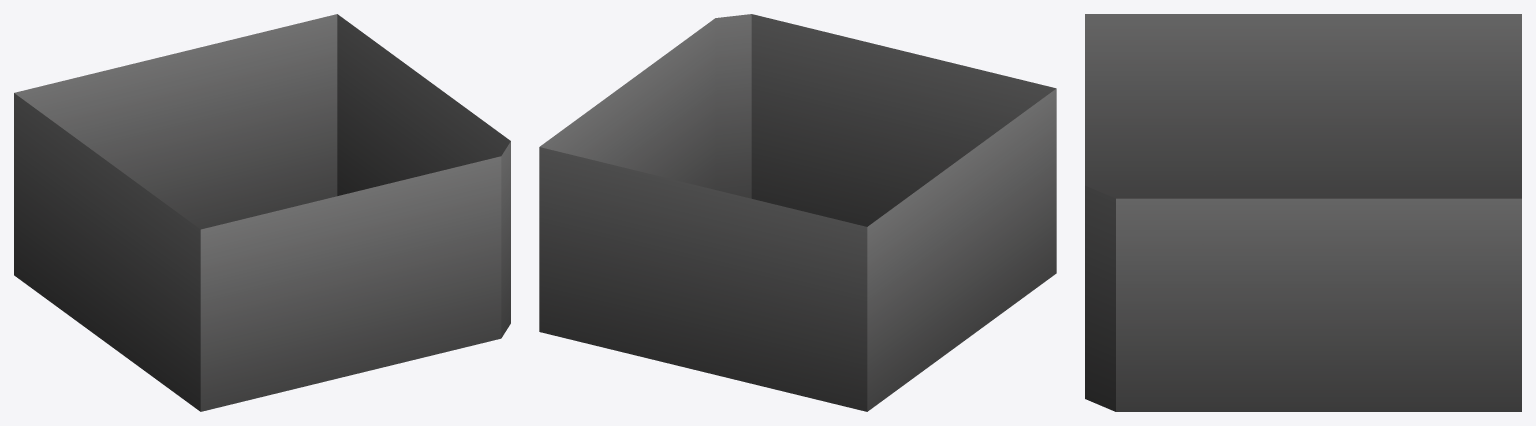
Rendered from Counter_01_Corner.fbx.
3 views of the same model, side by side, from view 1: azimuth 30°, elevation 25°; view 2: azimuth 150°, elevation 25°; view 3: azimuth 270°, elevation 25° (orthographic). The views are drawn at different scales.
Visible parts, largest first — view 1: Counter_01_Corner; view 2: Counter_01_Corner; view 3: Counter_01_Corner.
Boxes of the visible parts, x1,y1,x2,y2 form: Counter_01_Corner: [14, 14, 510, 411]; Counter_01_Corner: [539, 14, 1056, 411]; Counter_01_Corner: [1085, 14, 1521, 411].
Bounding box in the file's own units: 100 × 53.91 × 100.
